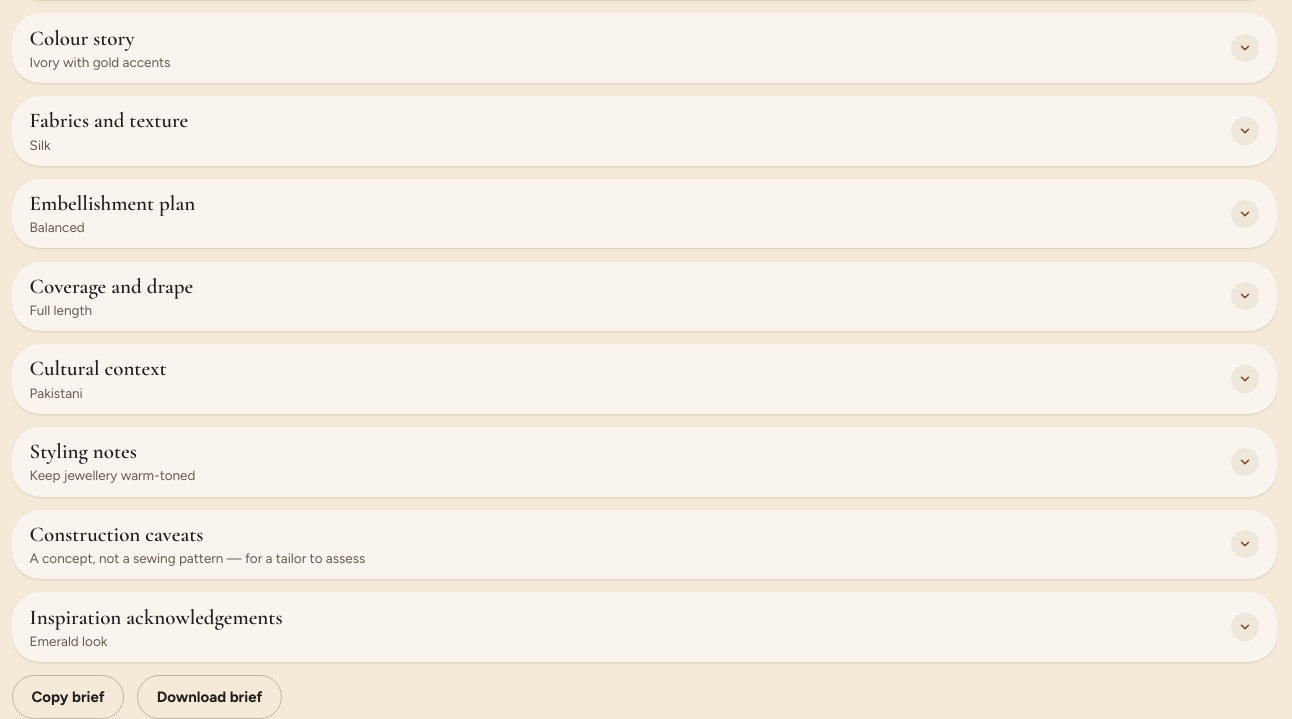
Test: DesignBrief — inspiration acknowledgements › tells the truth about what happened to a selected reference image
(page scrolled)
Click the button "Inspiration acknowledgements Emerald look". click: (156, 617)
box: x1=12 y1=592 x2=1277 y2=662
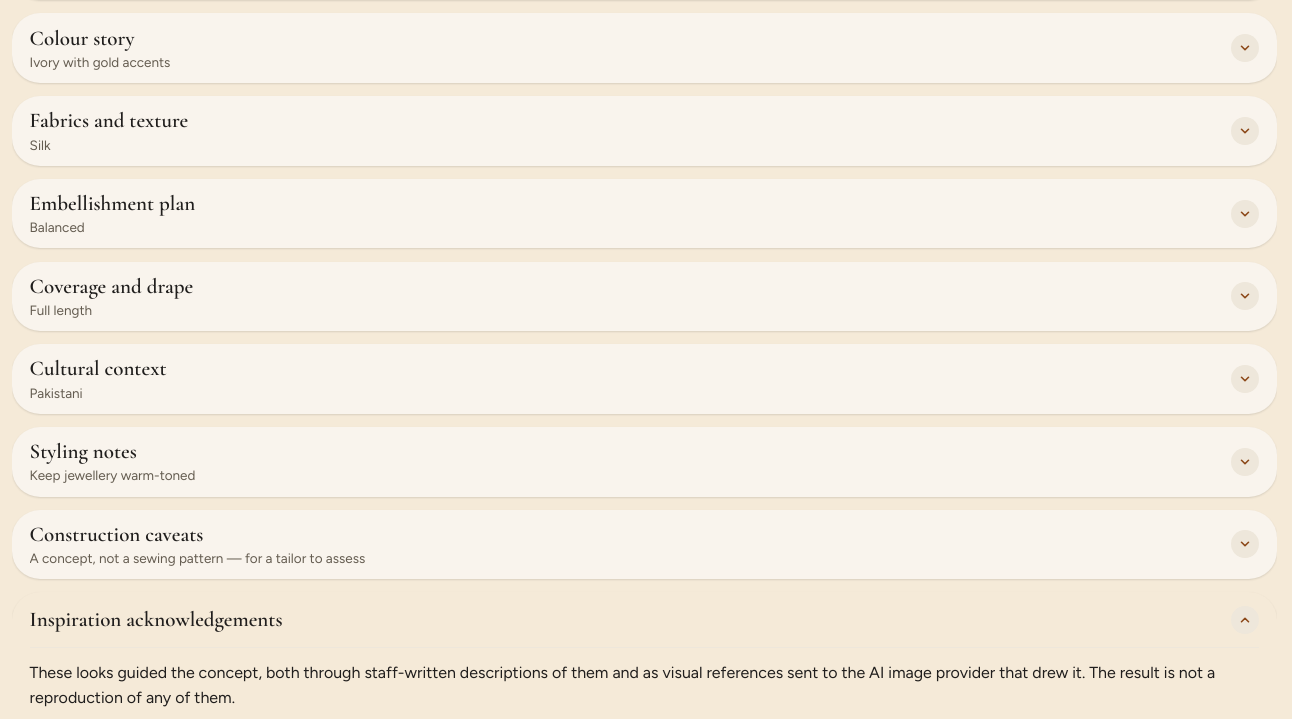
Now the text "sent to the AI image provider" is shown, box x1=30 y1=663 x2=1215 y2=707
